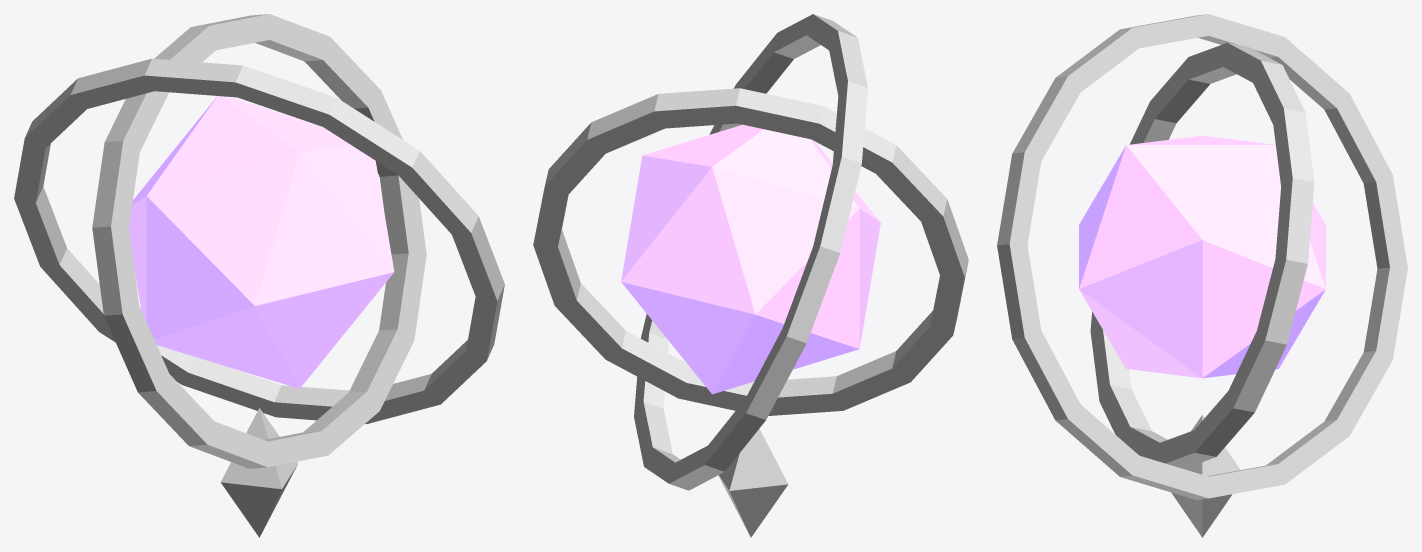
File: offhand_focus.glb
3 renders of one model, left to right at view 1: azimuth 30°, elevation 25°; view 2: azimuth 150°, elevation 25°; view 3: azimuth 270°, elevation 25°, orthographic. The views are drawn at different scales.
Visible parts, largest first — view 1: offhand_focus; view 2: offhand_focus; view 3: offhand_focus.
Boxes of the visible parts, <box> form: offhand_focus: <box>14,14,504,537</box>; offhand_focus: <box>533,14,968,537</box>; offhand_focus: <box>997,14,1407,537</box>.
Size of the model in its own units: 0.2134 by 0.2768 by 0.2124.
